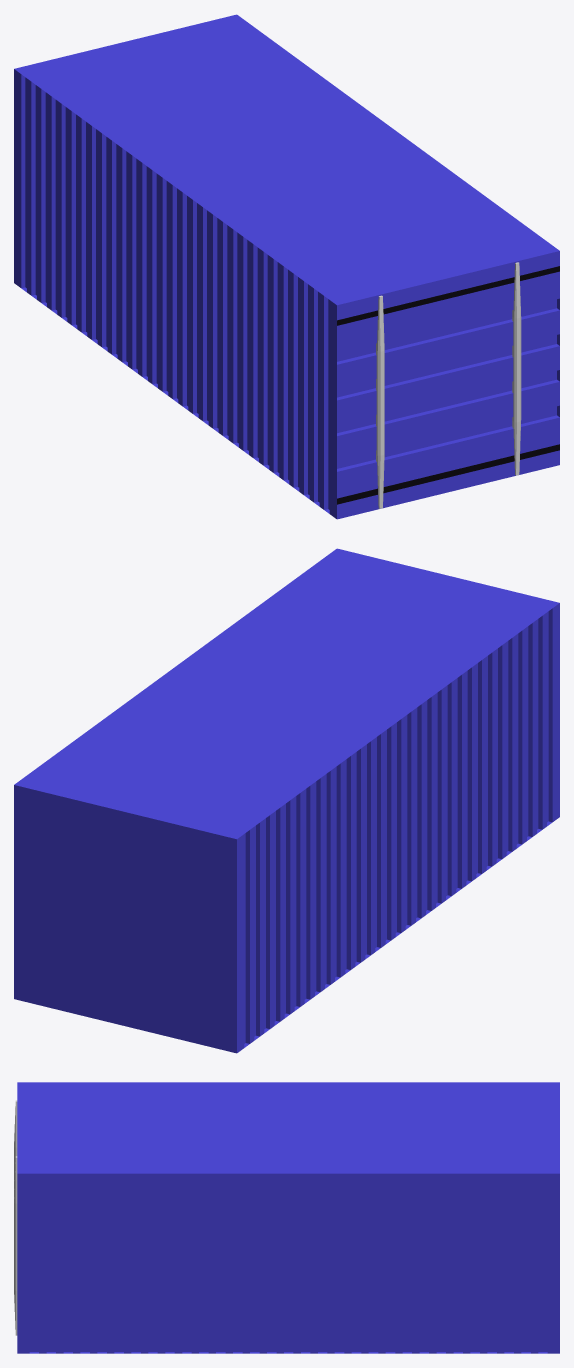
File: bluecontainer.fbx
The picture shows the model from 3 angles, top to bottom: view 1: azimuth 30°, elevation 25°; view 2: azimuth 150°, elevation 25°; view 3: azimuth 270°, elevation 25°; orthographic projection. The views are drawn at different scales.
Parts seen in each view (by area): view 1: Cube.007, Cube.005, Cube.006; view 2: Cube.007; view 3: Cube.007, Cube.005.
Boxes of the visible parts, x1,y1,x2,y2 form: Cube.007: (14,14,559,519); Cube.005: (512,262,521,475); Cube.006: (376,295,384,508); Cube.007: (14,548,559,1053); Cube.007: (17,1082,559,1353); Cube.005: (14,1156,17,1335).
Size of the model in its own units: 825 by 300 by 327.
